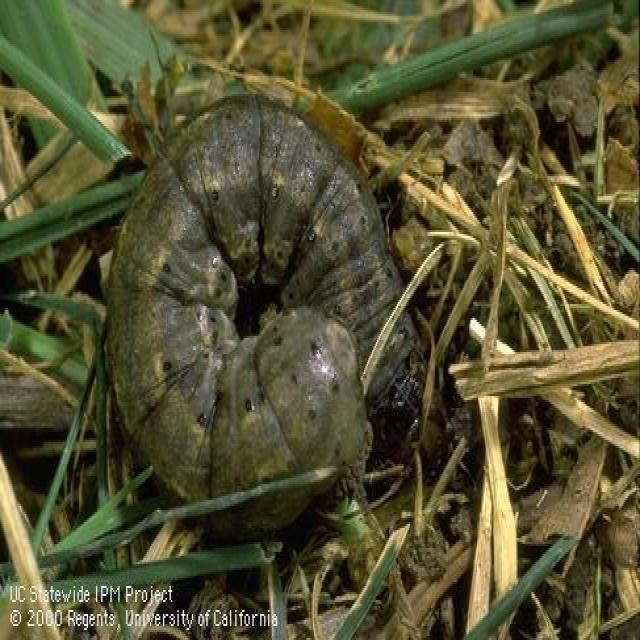black cutworm: (107, 83, 431, 511)
